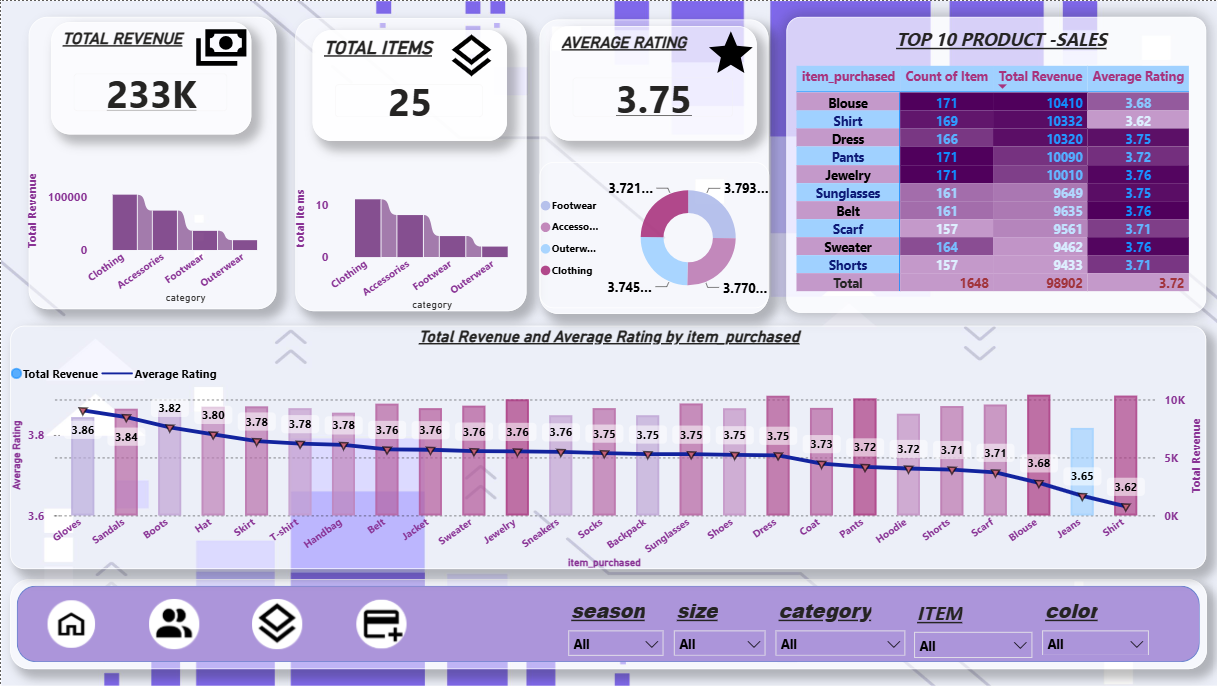

Layout of this report page (visuals, bound fields, positions):
{"tool":"powerbi","page":{"name":"Product Analysis","canvas":[1280,720],"ordinal":2},"visuals":[{"type":"image","box":[0,0,1279.6,720.1],"z":0},{"type":"shape","box":[29.4,16.3,260.5,307.9],"z":0,"group":"g4"},{"type":"shape","box":[309.9,17.6,243.4,308.6],"z":0,"group":"g3"},{"type":"shape","box":[567.1,18.8,240.7,310],"z":0,"group":"g5"},{"type":"group","id":"g1","title":"Group 4","box":[52.2,22.4,210.7,118.7],"z":1000,"group":"g4"},{"type":"cardVisual","title":"TOTAL REVENUE","fields":{"Data":["Customer.Total Revenue"]},"box":[52.2,22.4,210.5,118.2],"z":1000,"group":"g7"},{"type":"group","id":"g2","title":"Group 7","box":[327.5,30.1,204.5,116.7],"z":1000,"group":"g3"},{"type":"cardVisual","title":"TOTAL ITEMS","fields":{"Data":["Customer.total items"]},"box":[327.5,30.1,204.5,116.7],"z":1000,"group":"g9"},{"type":"shape","box":[9.6,608.4,1258.9,94.5],"z":1000},{"type":"cardVisual","title":"AVERAGE RATING","fields":{"Data":["Customer.Average Rating"]},"box":[577.7,24.8,217.6,120.8],"z":2000,"group":"g8"},{"type":"ribbonChart","fields":{"Y":["Customer.Total Revenue"],"Category":["Customer.category"]},"box":[27.6,163.4,260.5,153.9],"z":2000,"group":"g4"},{"type":"donutChart","title":"Total Items by category","fields":{"Category":["Customer.category"],"Y":["Customer.Average Rating"]},"box":[567.1,168.8,241.3,154],"z":2000,"group":"g5"},{"type":"columnChart","title":"Total Items by category","fields":{"Category":["Customer.category"],"Y":["Customer.total items"]},"box":[309.9,171.9,243.4,153.1],"z":2000,"group":"g3"},{"type":"actionButton","title":"home_A","box":[128,629.4,108.6,52.9],"z":2000},{"type":"actionButton","title":"home_A","box":[20,630.8,108.6,50],"z":3000},{"type":"actionButton","title":"home_A","box":[236,629.4,108.6,52.9],"z":4000},{"type":"lineClusteredColumnComboChart","fields":{"Category":["Customer.item_purchased"],"Y":["Customer.Total Revenue"],"Y2":["Customer.Average Rating"]},"box":[9.3,341.3,1258.7,256],"z":5000},{"type":"pivotTable","title":"TOP 10 PRODUCT -SALES","fields":{"Rows":["Customer.item_purchased"],"Values":["Customer.Count of Item","Customer.Total Revenue","Customer.Average Rating"]},"box":[826.8,16.3,441.6,311.1],"z":6000},{"type":"group","id":"g3","title":"Group 6","box":[309.9,17.6,243.4,307.4],"z":7000},{"type":"group","id":"g4","title":"Group 1","box":[27.6,16.3,262.2,307.4],"z":8000},{"type":"group","id":"g5","title":"Group 2","box":[567.1,18.8,242.1,308.6],"z":9000},{"type":"group","id":"g6","title":"Group 3","box":[577.7,23.7,217.6,121.9],"z":10000,"group":"g5"},{"type":"slicer","fields":{"Values":["Customer.season"]},"box":[592.2,622.1,110.4,71.4],"z":10000},{"type":"slicer","fields":{"Values":["Customer.size"]},"box":[702.7,622.4,106.7,66.7],"z":11000},{"type":"image","box":[458.7,30.1,73.3,55.3],"z":11001,"group":"g9"},{"type":"group","id":"g7","title":"Group 13","box":[52.2,22.4,210.7,118.7],"z":11007,"group":"g1"},{"type":"group","id":"g8","title":"Group 11","box":[577.7,23.7,217.6,121.9],"z":11007,"group":"g6"},{"type":"group","id":"g9","title":"Group 15","box":[327.5,30.1,204.5,116.7],"z":11007,"group":"g2"},{"type":"slicer","fields":{"Values":["Customer.category"]},"box":[809.3,622.5,146.8,66.5],"z":12000},{"type":"image","box":[739.8,23.7,55.5,59.7],"z":13000,"group":"g8"},{"type":"slicer","fields":{"Values":["Customer.item_purchased"]},"box":[955.8,629.9,134.2,69],"z":13000},{"type":"slicer","fields":{"Values":["Customer.color"]},"box":[1090.9,622.1,122.1,66.2],"z":14000},{"type":"image","box":[199.5,15.1,63.4,57.3],"z":15000},{"type":"actionButton","title":"home_A","box":[345.5,628.6,108.6,52.9],"z":16000}]}

Visuals, with their boxes in screenshot pixels (x1, y1, x2, y2), scaled from the page's 1280x720 canvas onto the 1217x686 screenshot:
image: crop(0, 0, 1216, 685)
shape: crop(28, 16, 276, 309)
shape: crop(295, 17, 526, 311)
shape: crop(539, 18, 768, 313)
"Group 4" group: crop(50, 21, 250, 134)
"TOTAL REVENUE" cardVisual: crop(50, 21, 250, 134)
"Group 7" group: crop(311, 29, 506, 140)
"TOTAL ITEMS" cardVisual: crop(311, 29, 506, 140)
shape: crop(9, 580, 1206, 670)
"AVERAGE RATING" cardVisual: crop(549, 24, 756, 139)
ribbonChart - Customer.Total Revenue x Customer.category: crop(26, 156, 274, 302)
"Total Items by category" donutChart: crop(539, 161, 769, 308)
"Total Items by category" columnChart: crop(295, 164, 526, 310)
"home_A" actionButton: crop(122, 600, 225, 650)
"home_A" actionButton: crop(19, 601, 122, 649)
"home_A" actionButton: crop(224, 600, 328, 650)
lineClusteredColumnComboChart - Customer.item_purchased x Customer.Total Revenue: crop(9, 325, 1206, 569)
"TOP 10 PRODUCT -SALES" pivotTable: crop(786, 16, 1206, 312)
"Group 6" group: crop(295, 17, 526, 310)
"Group 1" group: crop(26, 16, 276, 308)
"Group 2" group: crop(539, 18, 769, 312)
"Group 3" group: crop(549, 23, 756, 139)
slicer - Customer.season: crop(563, 593, 668, 661)
slicer - Customer.size: crop(668, 593, 770, 657)
image: crop(436, 29, 506, 81)
"Group 13" group: crop(50, 21, 250, 134)
"Group 11" group: crop(549, 23, 756, 139)
"Group 15" group: crop(311, 29, 506, 140)
slicer - Customer.category: crop(769, 593, 909, 656)
image: crop(703, 23, 756, 79)
slicer - Customer.item_purchased: crop(909, 600, 1036, 666)
slicer - Customer.color: crop(1037, 593, 1153, 656)
image: crop(190, 14, 250, 69)
"home_A" actionButton: crop(328, 599, 432, 649)
